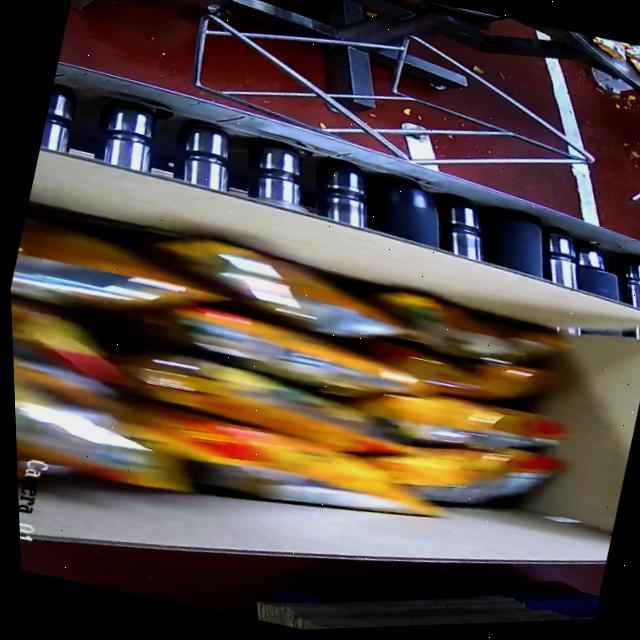FRENCH_CHEESE: (7, 172, 604, 632)
